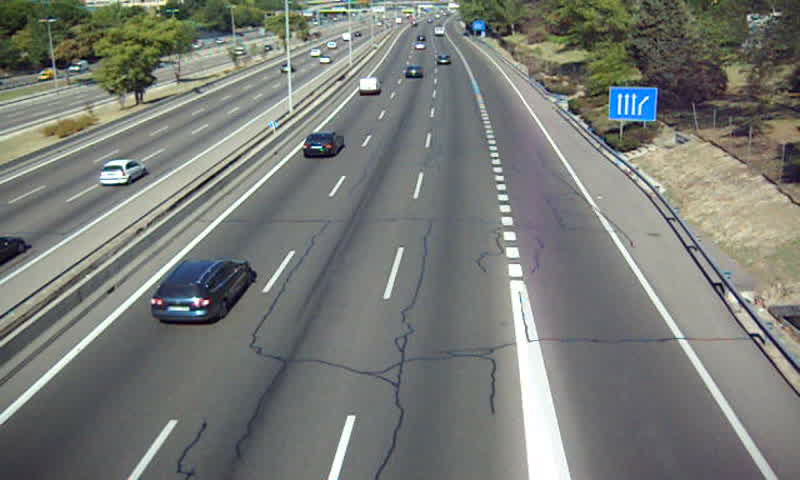car: (151, 260, 250, 325), (302, 132, 344, 160), (405, 65, 422, 80)
van: (358, 77, 379, 96)
